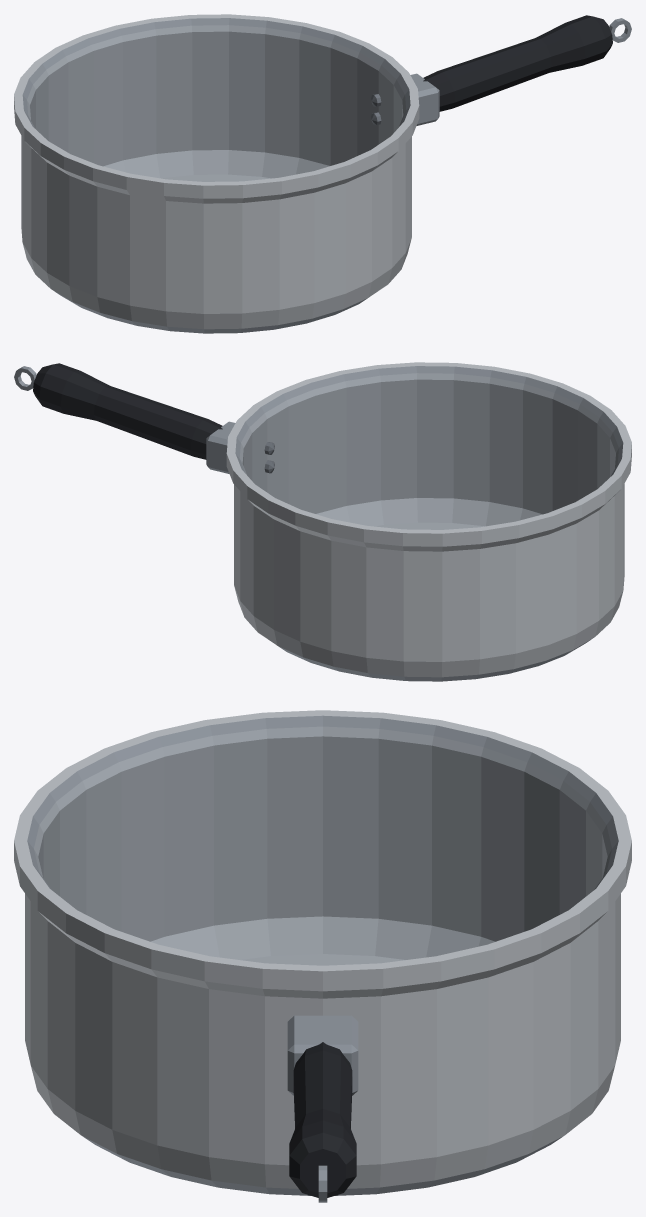
The model's file is Panela.fbx.
3 views of the same model, one above another, from view 1: azimuth 30°, elevation 25°; view 2: azimuth 150°, elevation 25°; view 3: azimuth 270°, elevation 25° (orthographic). The views are drawn at different scales.
Parts seen in each view (by area): view 1: Panela; view 2: Panela; view 3: Panela.
Boxes of the visible parts, left/top/right/bottom form: Panela: left=14, top=14, right=631, bottom=333; Panela: left=14, top=362, right=631, bottom=681; Panela: left=14, top=710, right=631, bottom=1202.
Bounding box in the file's own units: 0.4695 × 0.12 × 0.28.
1 material, 1 textured.
